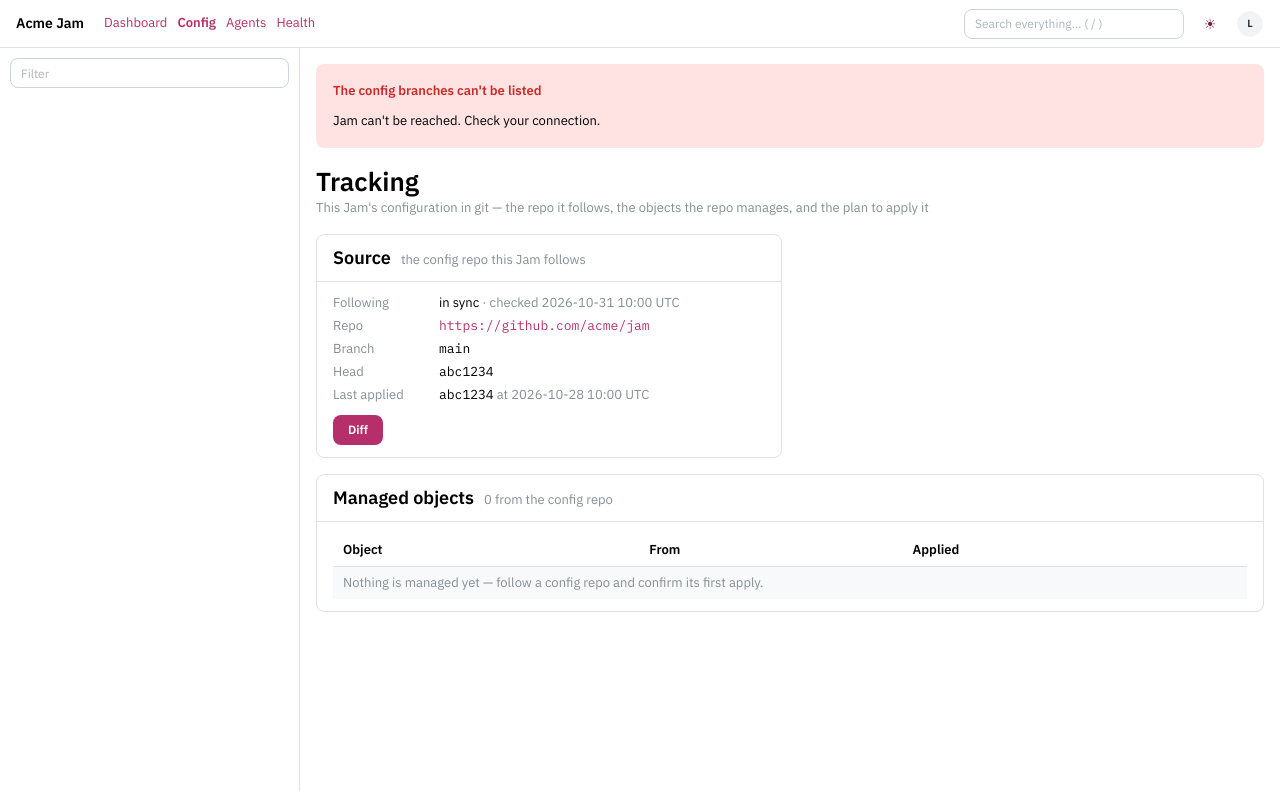
Test case: Tracking › offers no Apply for a refused plan
Click the button "Diff" at point(358, 430), box [333, 414, 383, 444]
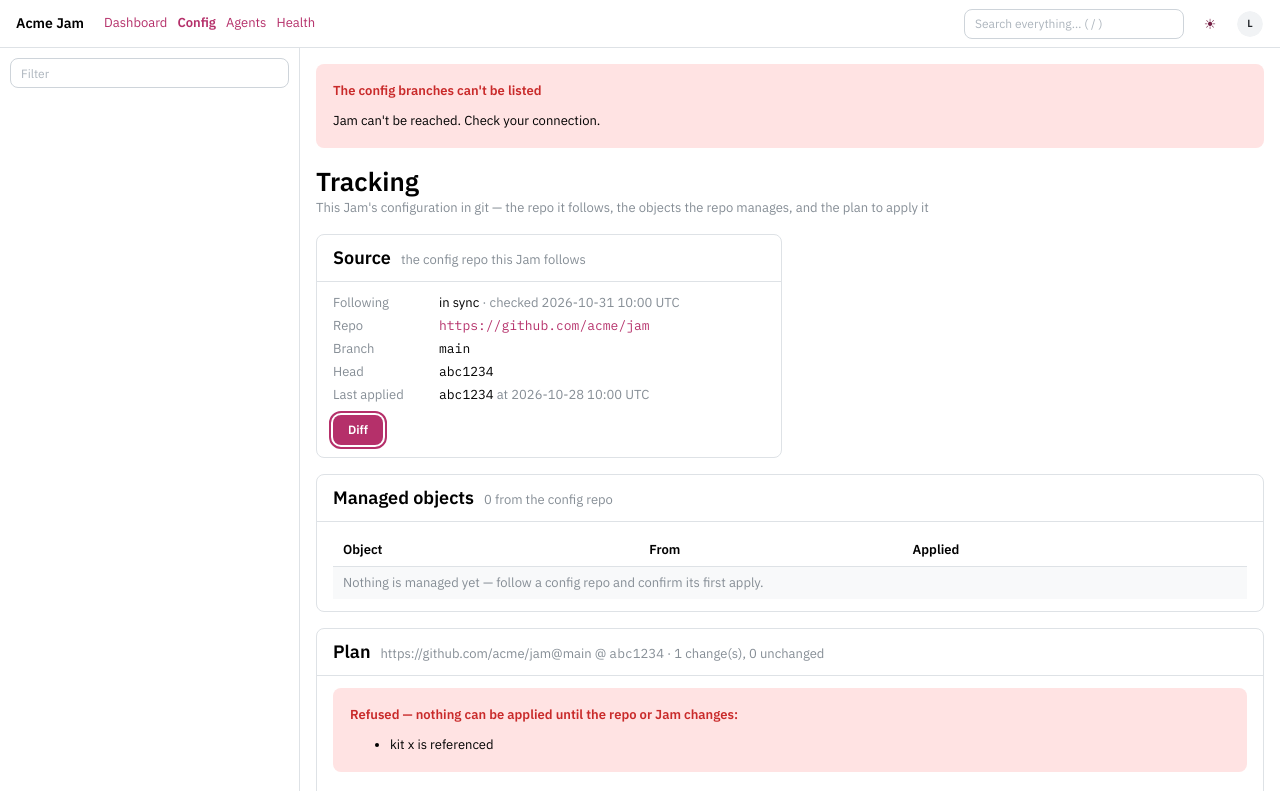
expect the list item "kit x is referenced" is shown: met, box [390, 736, 494, 753]
